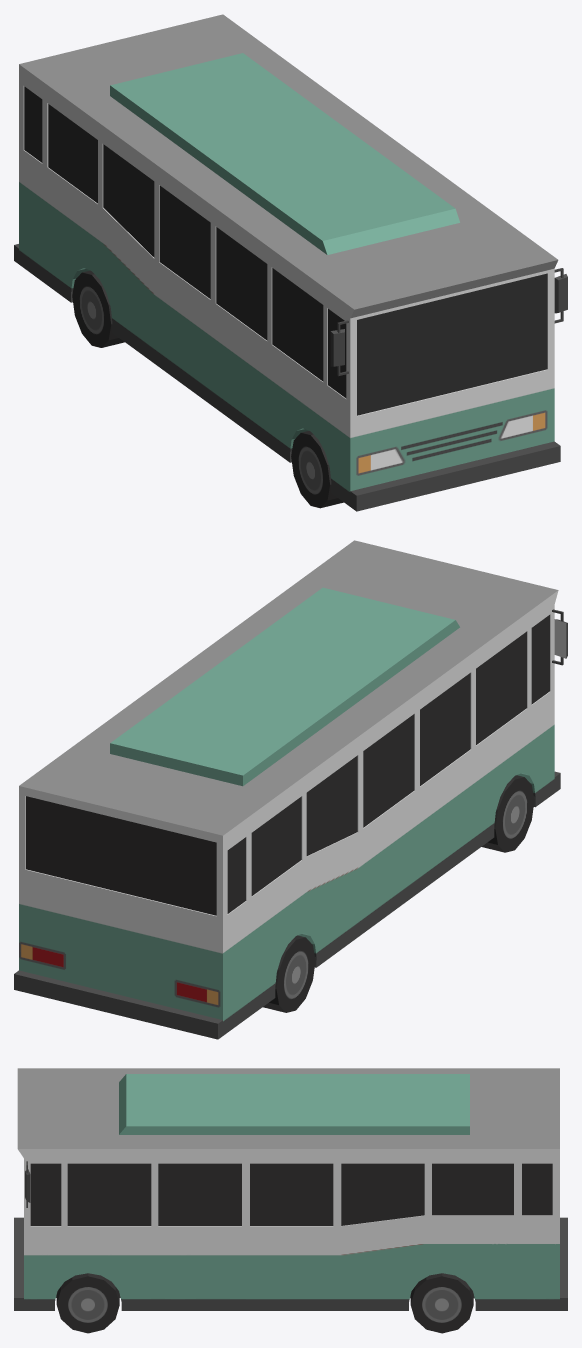
Rendered from vehicle-bus-color02.glb.
3 views of the same model, one above another, from view 1: azimuth 30°, elevation 25°; view 2: azimuth 150°, elevation 25°; view 3: azimuth 270°, elevation 25° (orthographic). The views are drawn at different scales.
Parts seen in each view (by area): view 1: model; view 2: model; view 3: model.
Boxes of the visible parts, <box> form: model: <box>14,14,567,511</box>; model: <box>14,540,567,1039</box>; model: <box>14,1068,567,1333</box>.
Bounding box in the file's own units: 3.69 × 3.58 × 9.3.
Materials: 1 (1 with a texture image).
